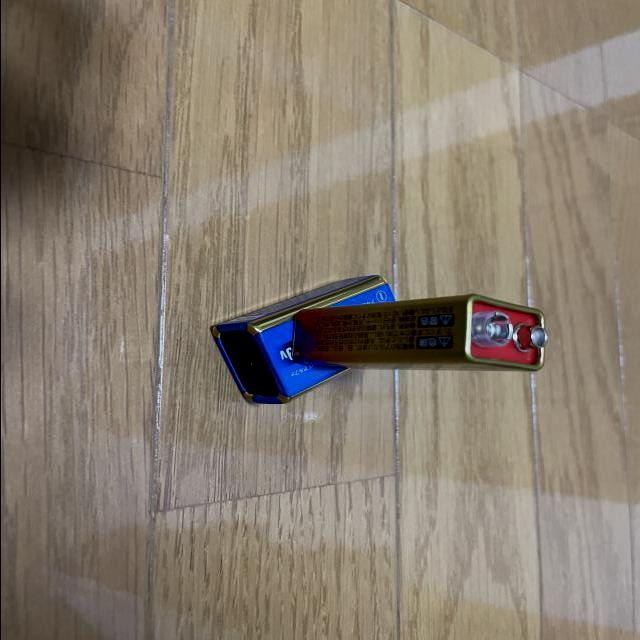9V: (208, 275, 394, 406), (289, 293, 547, 373)
